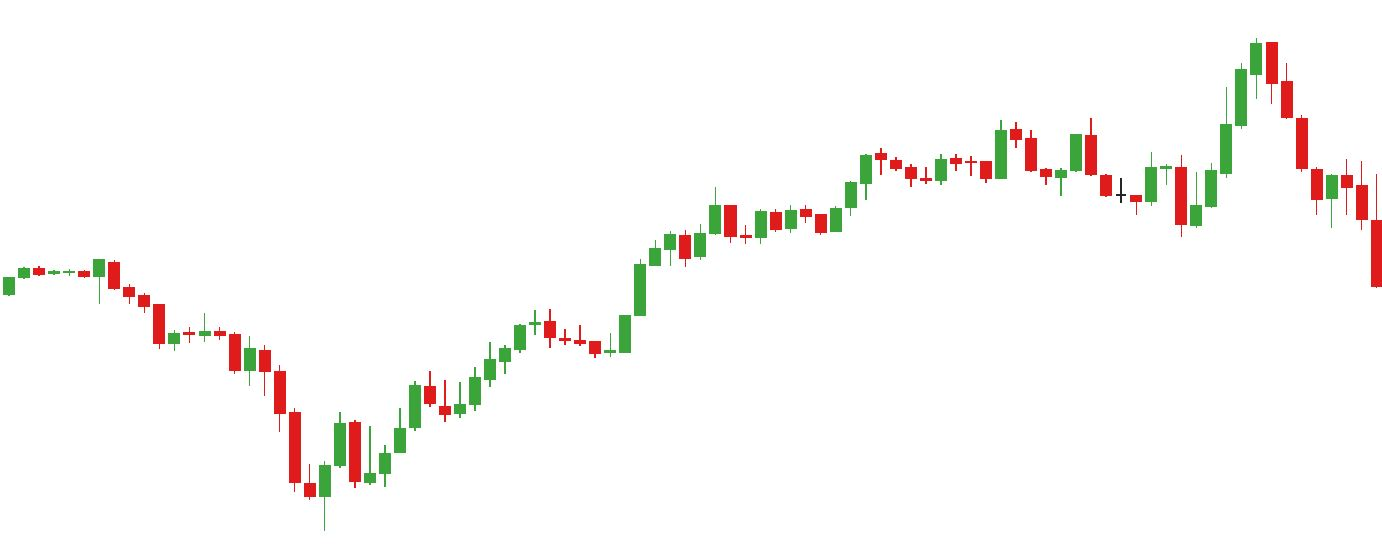buy: (1126, 177, 1204, 240)
